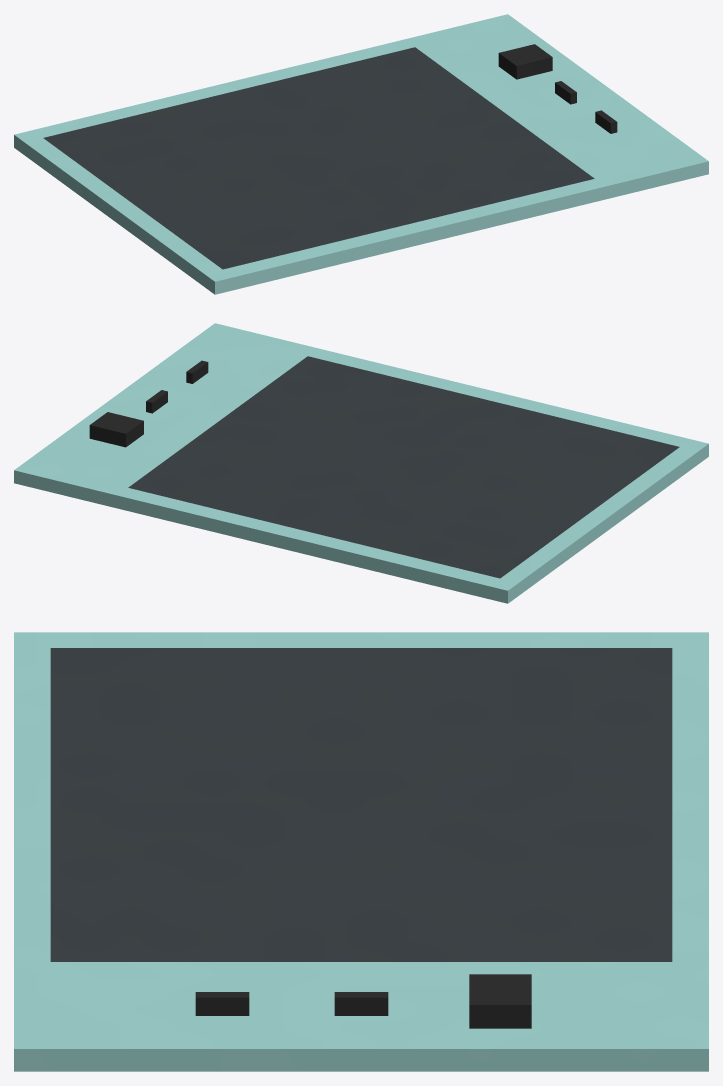
The model's file is Drawing_Tablet_03.fbx.
3 views of the same model, one above another, from view 1: azimuth 30°, elevation 25°; view 2: azimuth 150°, elevation 25°; view 3: azimuth 270°, elevation 25° (orthographic). The views are drawn at different scales.
Parts seen in each view (by area): view 1: Drawing_Tablet_03; view 2: Drawing_Tablet_03; view 3: Drawing_Tablet_03.
Part boxes in pixels (x1,y1,x2,y2): Drawing_Tablet_03: (14, 14, 708, 294); Drawing_Tablet_03: (14, 323, 708, 603); Drawing_Tablet_03: (14, 632, 708, 1071).
Bounding box in the file's own units: 0.6951 × 0.0358 × 0.4899.
